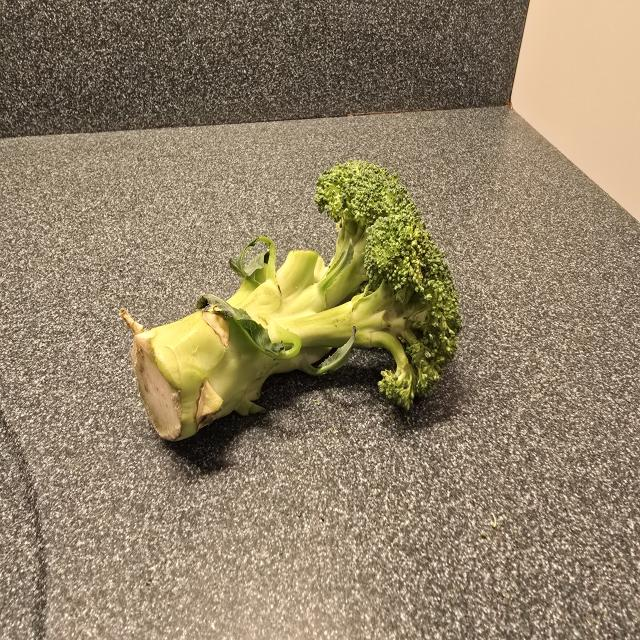Broccoli: (114, 147, 471, 459)
